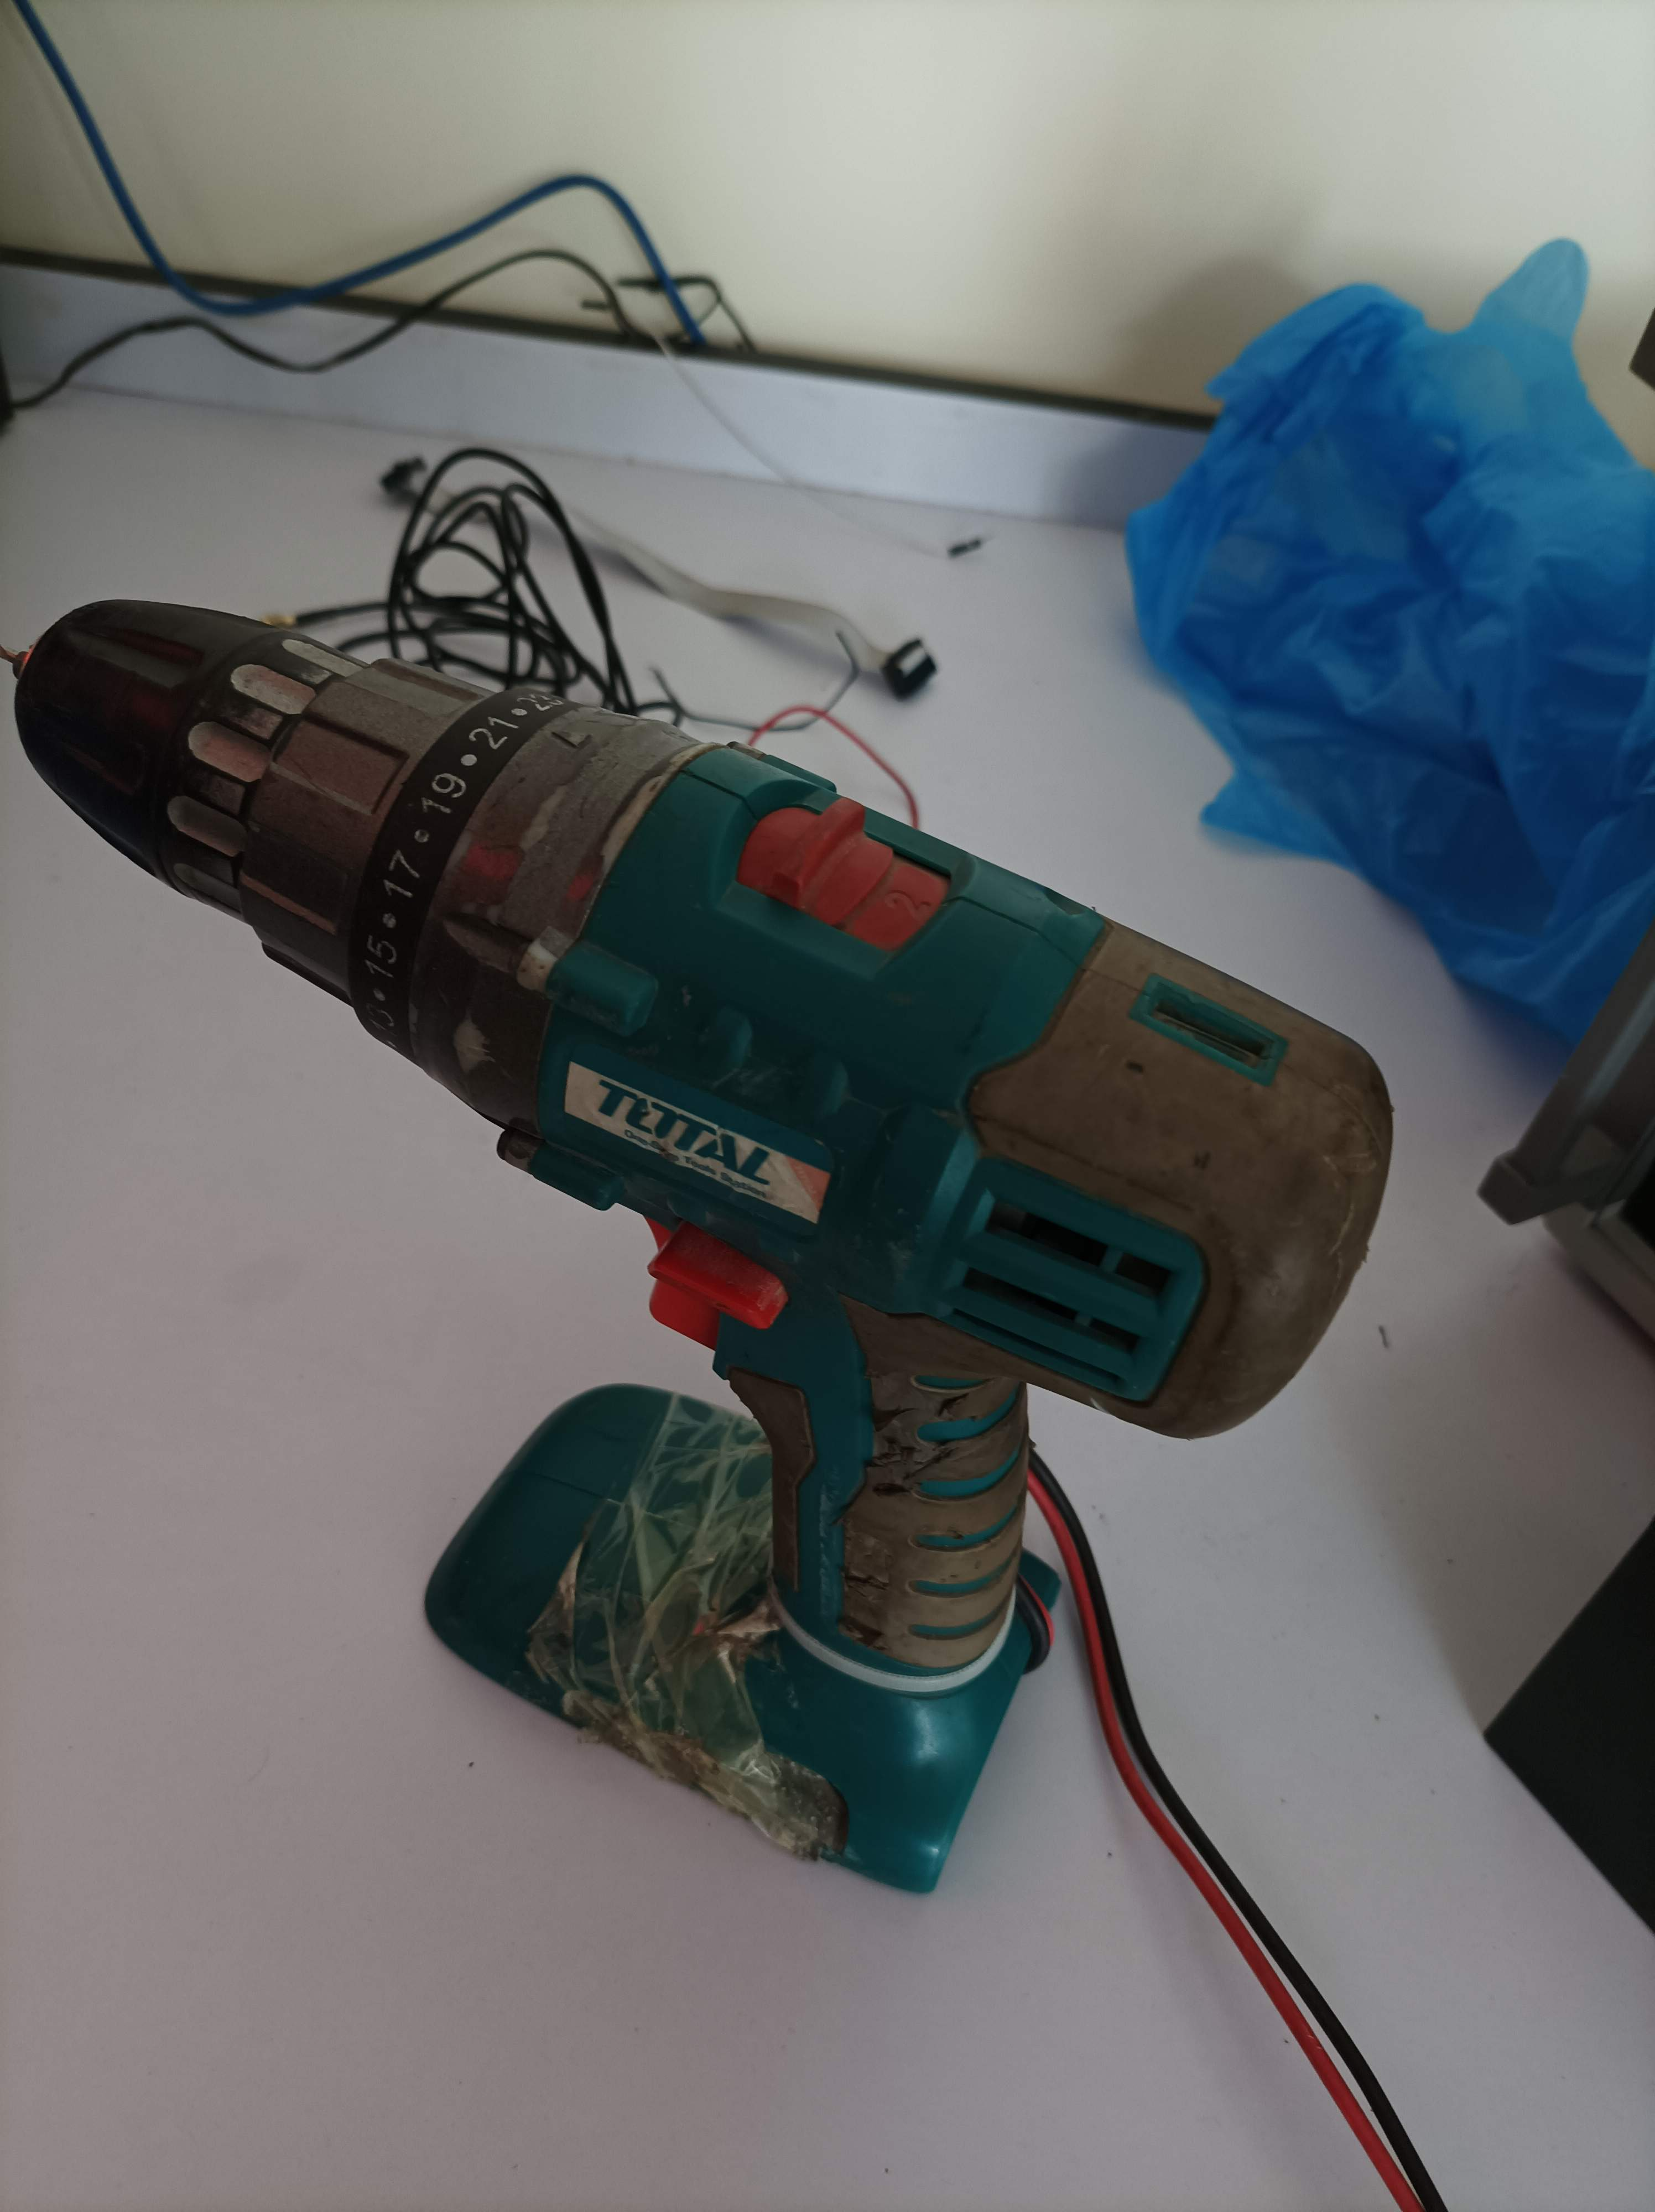driller: (7, 589, 1406, 1903)
